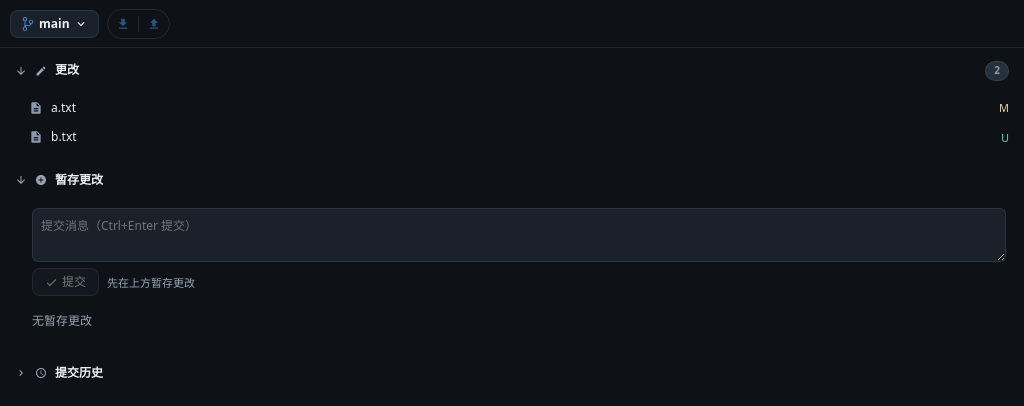
Scenario: GitView 分支管理 › 点击分支按钮打开弹层，当前分支高亮且无删除按钮
Expected: the icon with class "git-branch-icon" is shown, x1=21 y1=16 x2=35 y2=30
Click the button with class "git-branch-btn" at (54, 24), box x1=10 y1=10 x2=99 y2=38
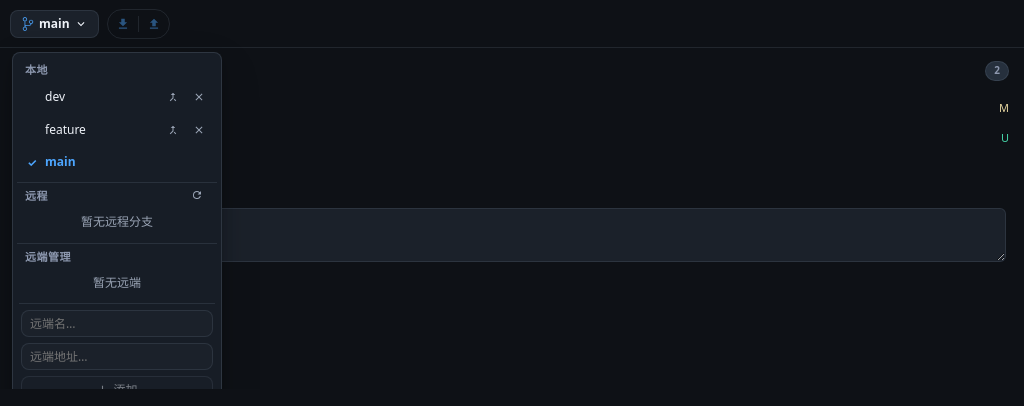
Result: the element with class "git-branch-menu" is shown at x1=12 y1=52 x2=222 y2=390
Result: the number of elements with class "git-branch-menu-item" is 3 at x1=45 y1=87 x2=209 y2=107; x1=45 y1=120 x2=209 y2=140; x1=27 y1=153 x2=76 y2=170
Result: the text with class "git-branch-name" below "feature" reads "main" at x1=45 y1=153 x2=76 y2=170
